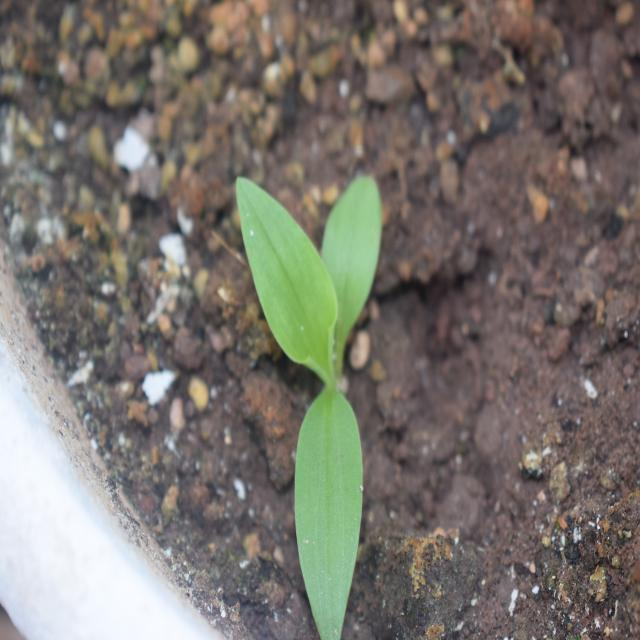Common Dayflower: (216, 153, 401, 623)
